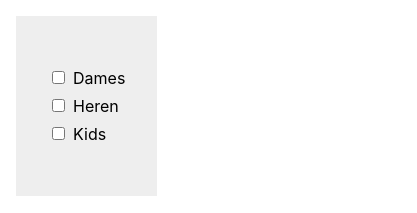
click on node should show selected categories
The width and height of the screenshot is (417, 213).
Click the checkbox with test id "chk-box-14100" at (58, 78), box [52,71,65,84]
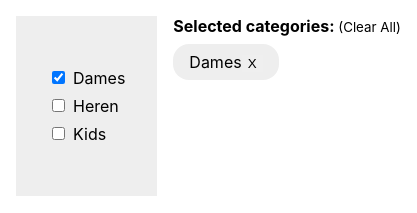
Expected: the number of buttons "Dames" is 2, [73,68,125,88]; [173,44,278,80]
Now the text "Selected categories:" is shown, box [173,16,338,36]
Now the button "(Clear All)" is shown, box [338,19,401,35]
